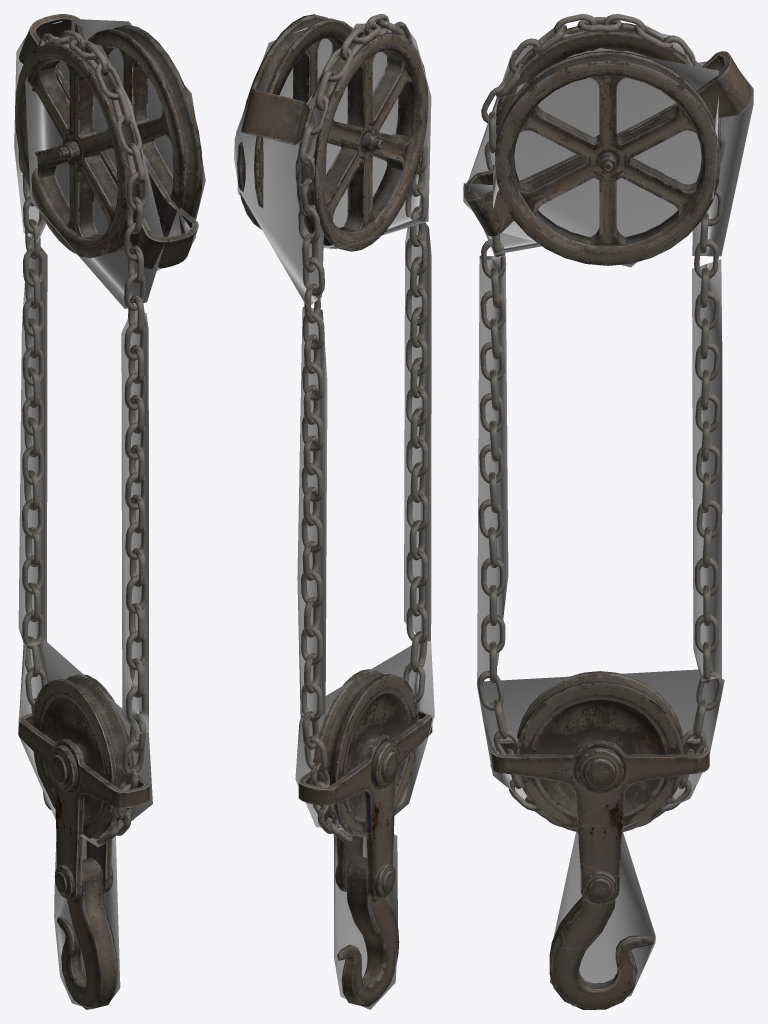
Rendered from SM_Hook.gltf.
3 renders of one model, left to right at view 1: azimuth 30°, elevation 25°; view 2: azimuth 150°, elevation 25°; view 3: azimuth 270°, elevation 25°, orthographic. The views are drawn at different scales.
Visible parts, largest first — view 1: SM_Hook_LOD0, SM_Hook_ConvexHulls; view 2: SM_Hook_LOD0, SM_Hook_ConvexHulls; view 3: SM_Hook_LOD0, SM_Hook_ConvexHulls.
Part boxes in pixels (left/top/right/bottom): SM_Hook_LOD0: left=15, top=14, right=202, bottom=1009; SM_Hook_ConvexHulls: left=14, top=19, right=205, bottom=1009; SM_Hook_LOD0: left=237, top=14, right=432, bottom=1006; SM_Hook_ConvexHulls: left=234, top=23, right=434, bottom=1009; SM_Hook_LOD0: left=464, top=14, right=752, bottom=1009; SM_Hook_ConvexHulls: left=463, top=31, right=753, bottom=1006.
Size of what is drawn, in the model's own units: 0.2716 by 2.43 by 0.6432.
